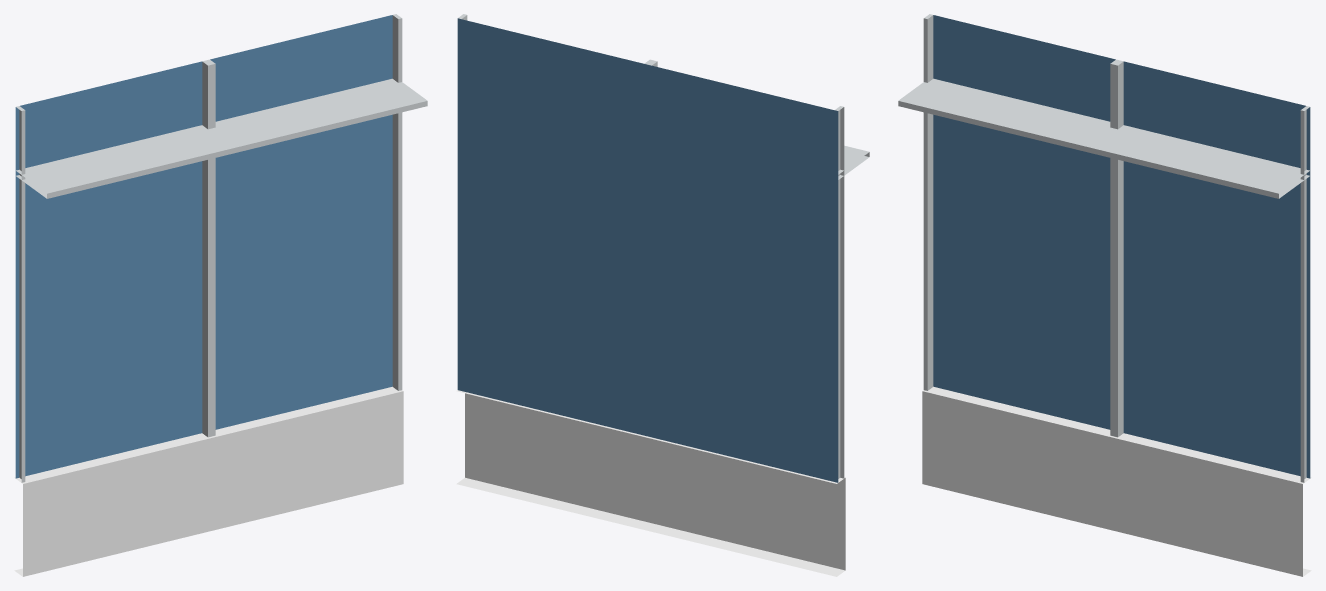
Rendered from mid-w1.fbx.
The picture shows the model from 3 angles, left to right: view 1: azimuth 30°, elevation 25°; view 2: azimuth 150°, elevation 25°; view 3: azimuth 330°, elevation 25°; orthographic projection.
Parts seen in each view (by area): view 1: a2009/400/mid-w1; view 2: a2009/400/mid-w1; view 3: a2009/400/mid-w1.
Part boxes in pixels (x1,y1,x2,y2): a2009/400/mid-w1: (14,14,427,576); a2009/400/mid-w1: (456,14,869,576); a2009/400/mid-w1: (898,14,1311,576).
Size of the model in its own units: 3 by 3.5 by 0.45.
